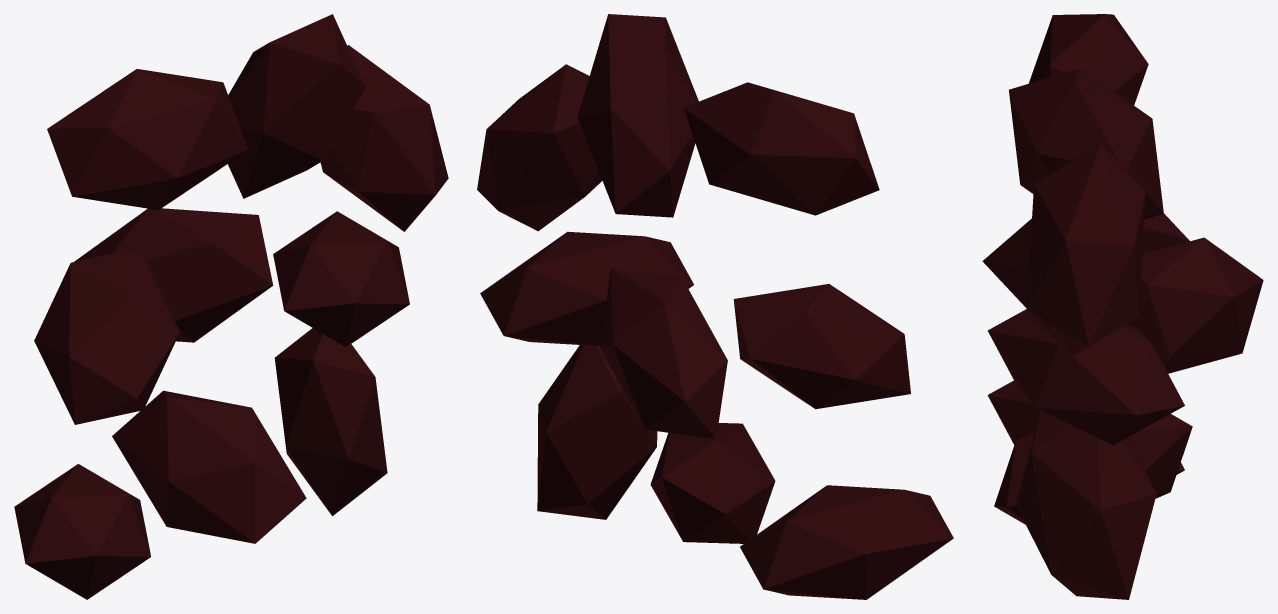
File: SnowCone_Topping_Adzuki.fbx
The picture shows the model from 3 angles, left to right: view 1: azimuth 30°, elevation 25°; view 2: azimuth 150°, elevation 25°; view 3: azimuth 270°, elevation 25°; orthographic projection. The views are drawn at different scales.
Parts seen in each view (by area): view 1: ICO球; view 2: ICO球; view 3: ICO球.
Part boxes in pixels (x1=…): ICO球: x1=14, y1=14, x2=448, y2=599; ICO球: x1=477, y1=14, x2=953, y2=599; ICO球: x1=982, y1=14, x2=1263, y2=599.
Bounding box in the file's own units: 1.43 × 1.57 × 0.7572.
